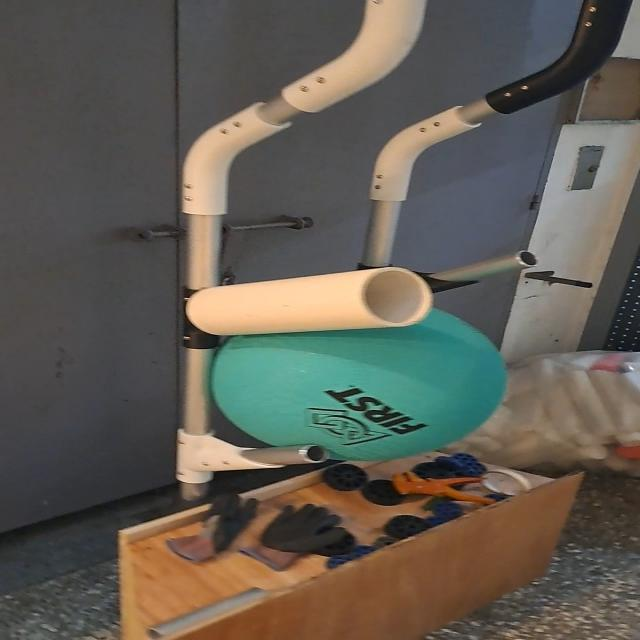ALGAE: (208, 307, 507, 464)
CORAL: (187, 263, 435, 339)
